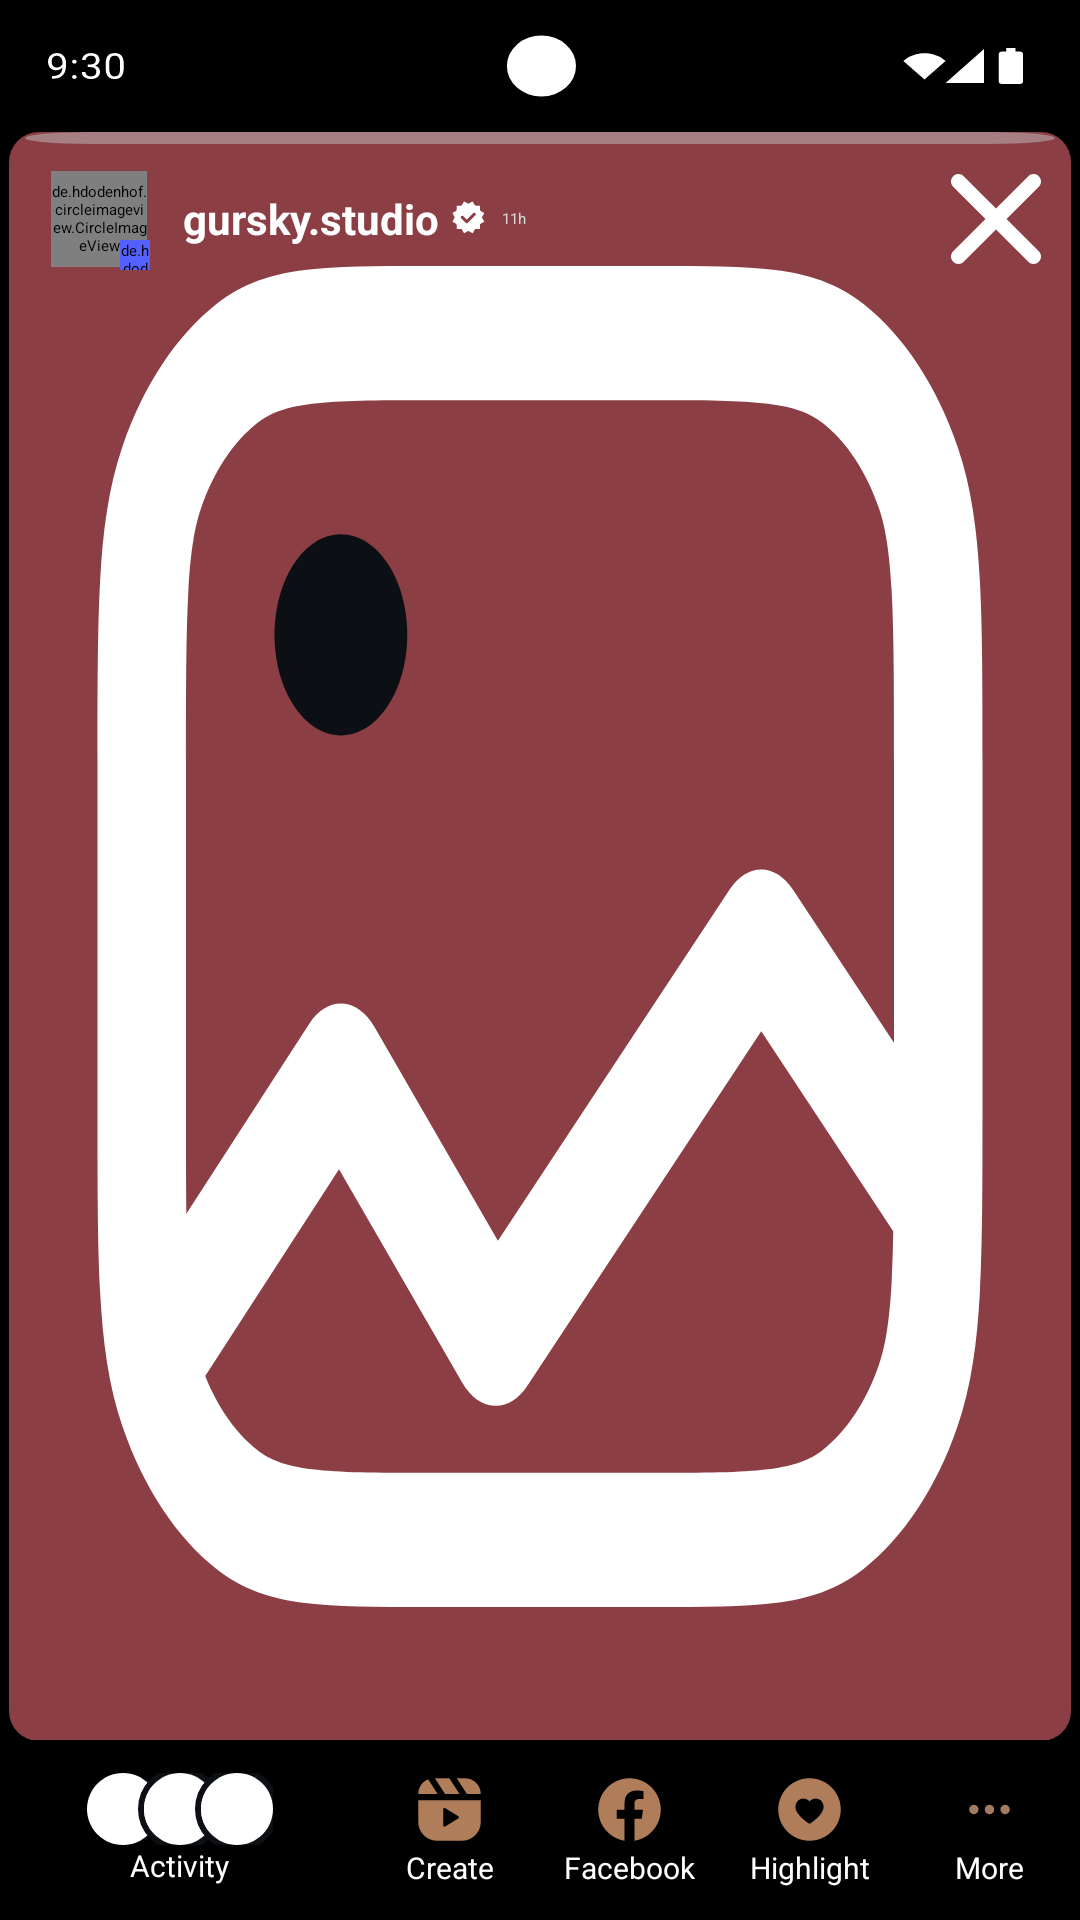

Icons on this 1080w x 1920h Android screen, each with its box as bbox=[x1, y1, x2, y2]:
close: bbox=[951, 174, 1041, 264]
options brown: bbox=[969, 1804, 1010, 1815]
verfied badge: bbox=[452, 201, 484, 233]
